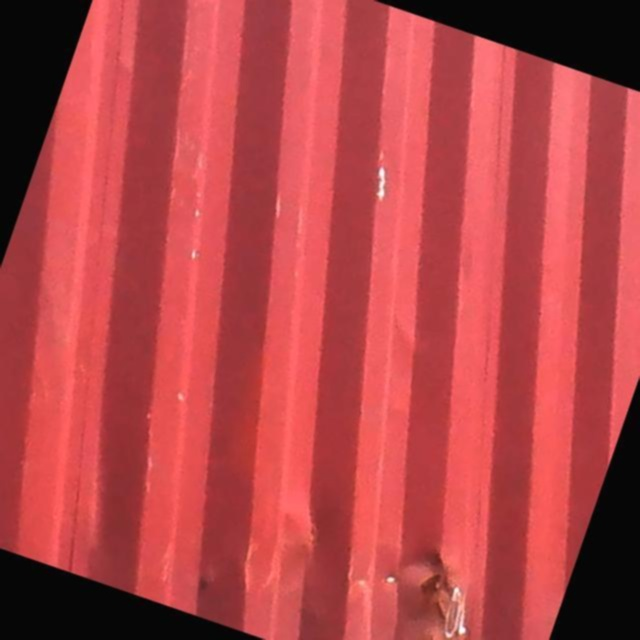Dent: (329, 514, 520, 640)
